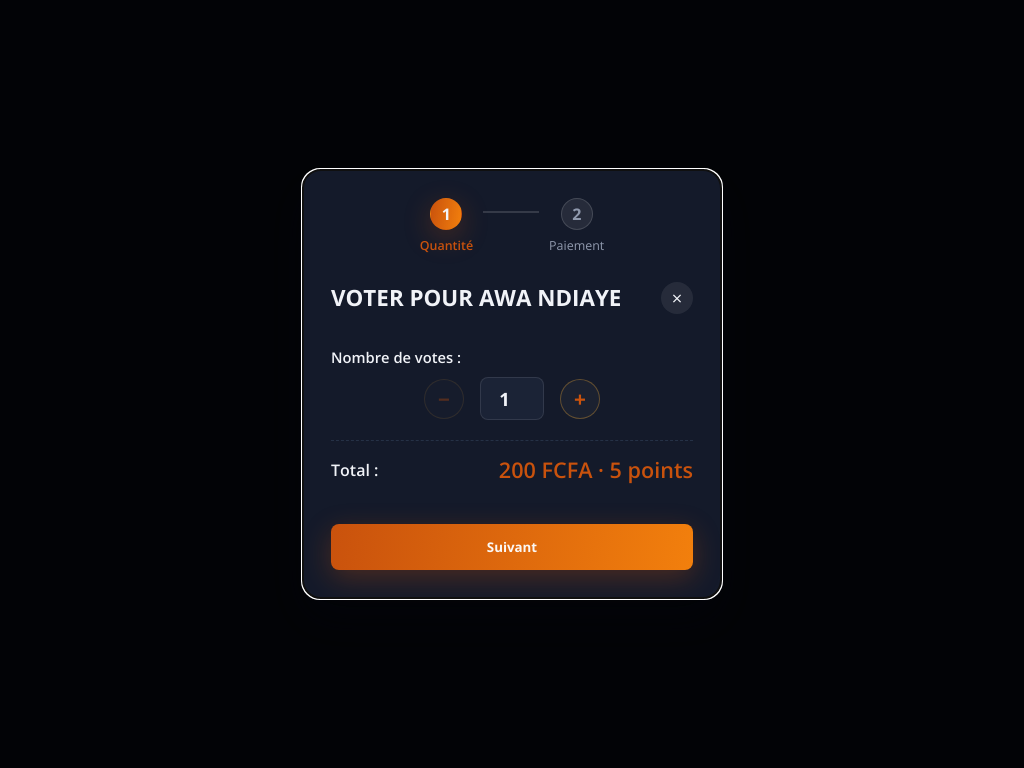
Test: VoteModal › refuse un numéro invalide et garde le bouton désactivé
The width and height of the screenshot is (1024, 768).
Click the button "Suivant": x=512, y=547 [331,524,693,570]
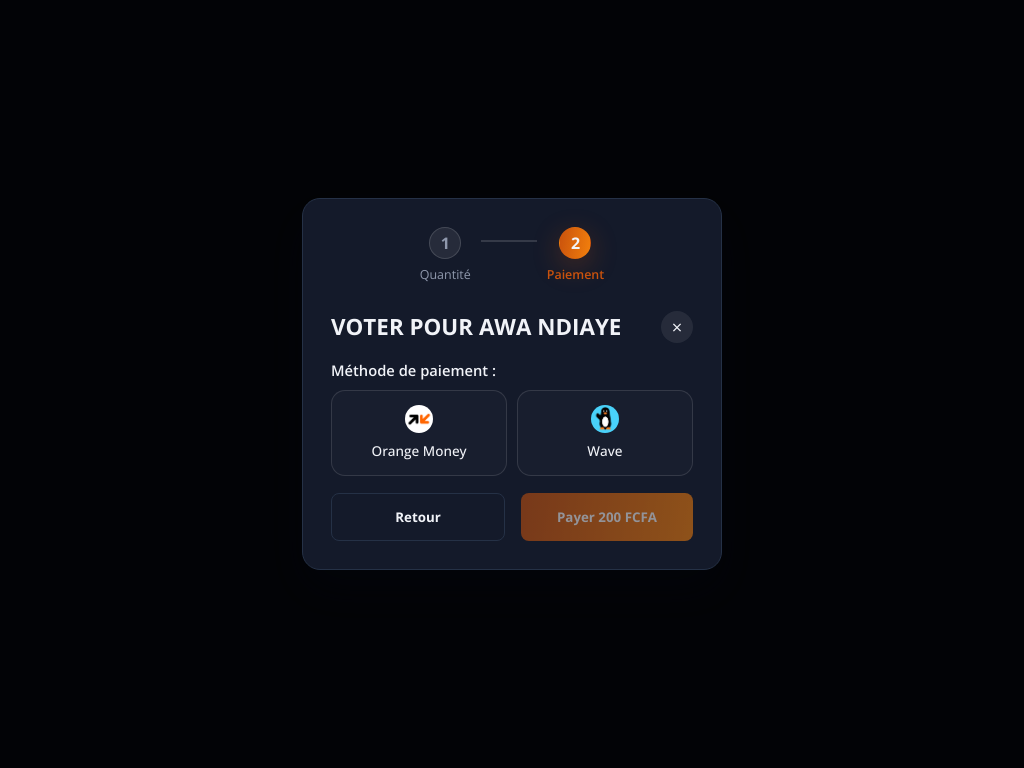
Click the button "Orange Money": x=419, y=433 [331,390,507,476]
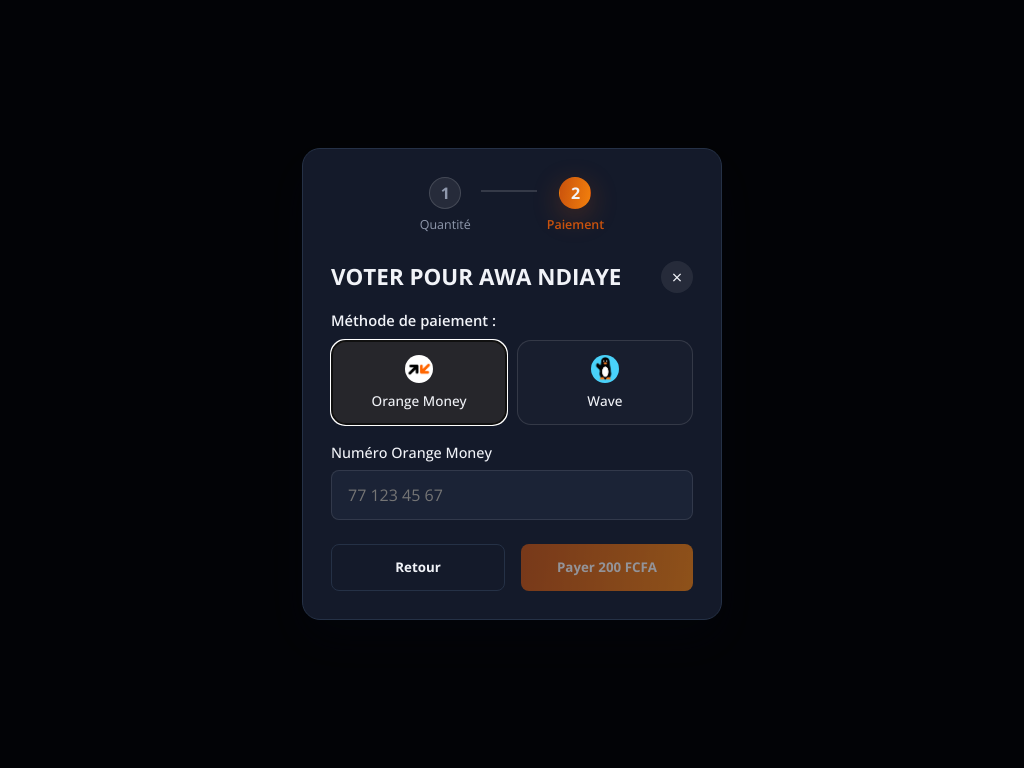
In the field labelled "Numéro Orange Money": x=512, y=495 [331,470,693,520], type "12345"
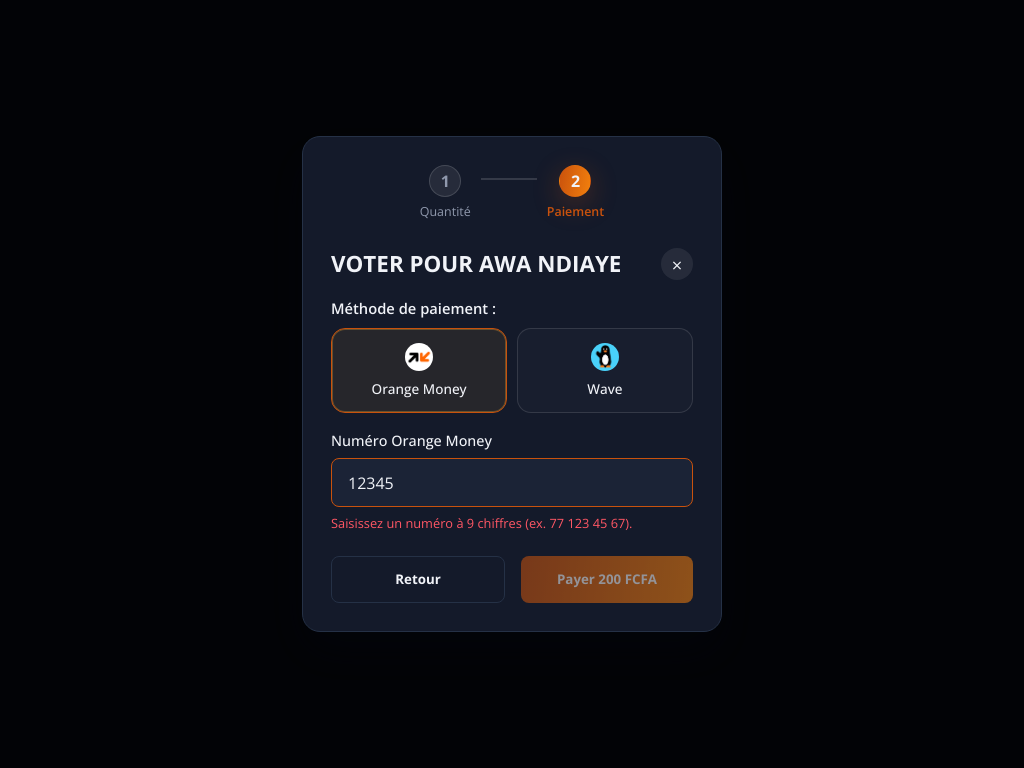
Now the button "Payer 200 FCFA" is disabled, box [521,556,693,603]
Now the text "Saisissez un numéro à 9 chiffres (ex. 77 123 45 67)." is shown, box [331,514,632,532]
